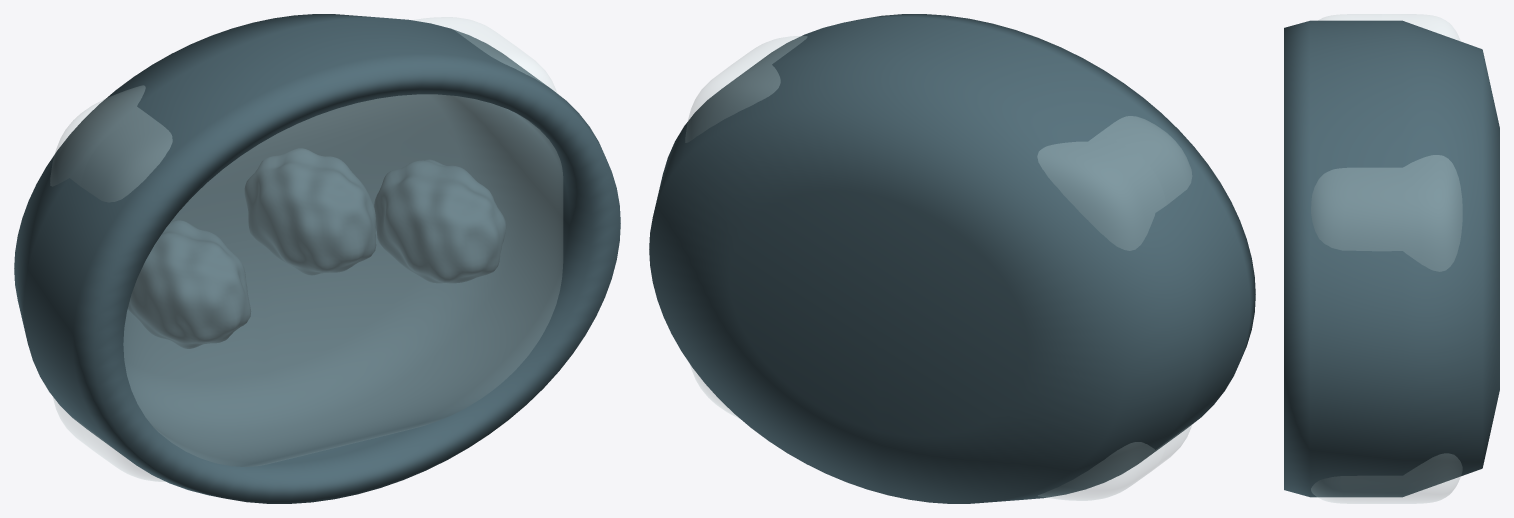
3 views of the same model, side by side, from view 1: azimuth 30°, elevation 25°; view 2: azimuth 150°, elevation 25°; view 3: azimuth 270°, elevation 25° (orthographic). The views are drawn at different scales.
Parts seen in each view (by area): view 1: deep-basin, basin-water, submerged-obstacle-1, submerged-obstacle-2, submerged-obstacle-0; view 2: deep-basin, basin-water; view 3: deep-basin, basin-water.
Boxes of the visible parts, x1,y1,x2,y2 form: deep-basin: [14, 14, 620, 503]; basin-water: [50, 17, 562, 481]; submerged-obstacle-1: [244, 148, 376, 275]; submerged-obstacle-2: [374, 159, 506, 283]; submerged-obstacle-0: [127, 220, 251, 348]; deep-basin: [649, 14, 1255, 503]; basin-water: [685, 36, 1191, 500]; deep-basin: [1284, 20, 1499, 497]; basin-water: [1311, 14, 1462, 503].
Size of the model in its own units: 2.34 by 1.76 by 0.85.
